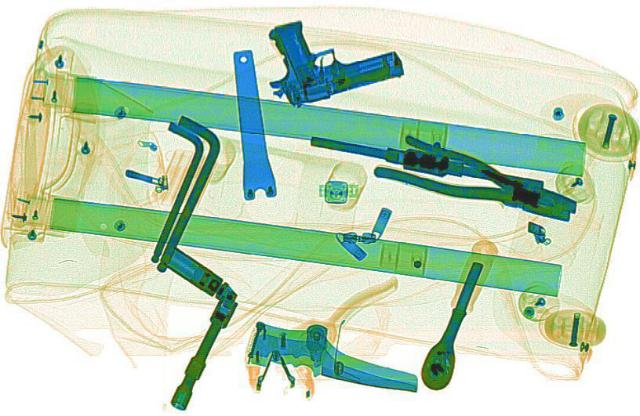Gun: (225, 2, 412, 107)
Pliers: (368, 130, 596, 224)
